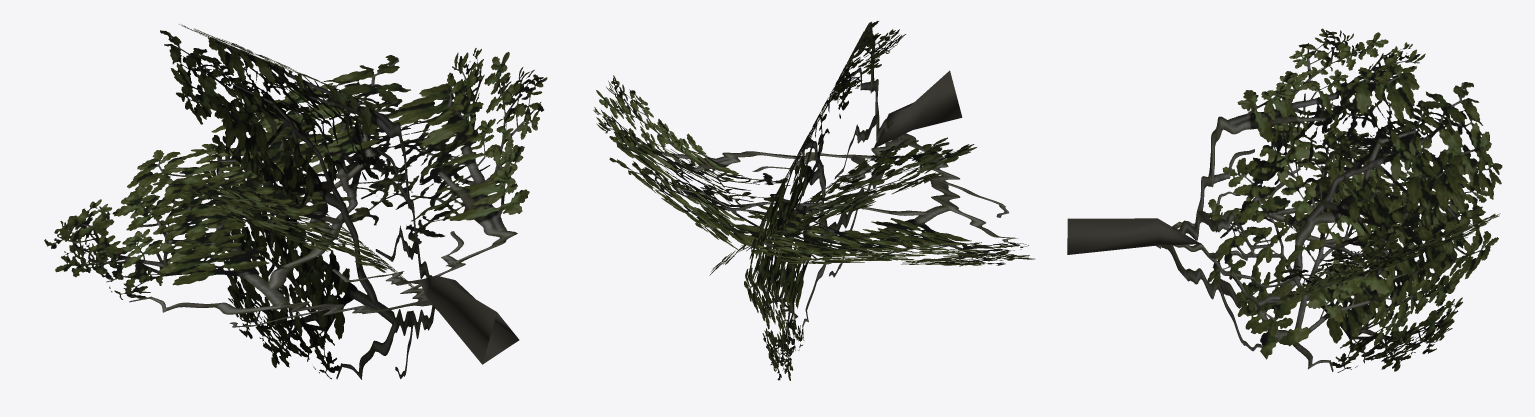
File: MEP_Oak_02_LOD_02.fbx
3 renders of one model, left to right at view 1: azimuth 30°, elevation 25°; view 2: azimuth 150°, elevation 25°; view 3: azimuth 270°, elevation 25°, orthographic. The views are drawn at different scales.
Visible parts, largest first — view 1: MEP_Oak_02_LOD_02; view 2: MEP_Oak_02_LOD_02; view 3: MEP_Oak_02_LOD_02.
Part boxes in pixels (x1,y1,x2,y2): MEP_Oak_02_LOD_02: (44,24,547,379); MEP_Oak_02_LOD_02: (593,21,1034,380); MEP_Oak_02_LOD_02: (1067,28,1502,372).
Bounding box in the file's own units: 18.33 × 13.26 × 16.95.
